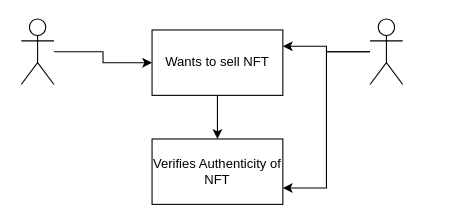
Image size: 449x223. Some labels were removed from this diagram. The shapes that lost their labels are listed below. From the top down, each one's centre as x and y in pixels, then its label:
pixel 37 51: Owner
pixel 386 51: Potential Buyer
